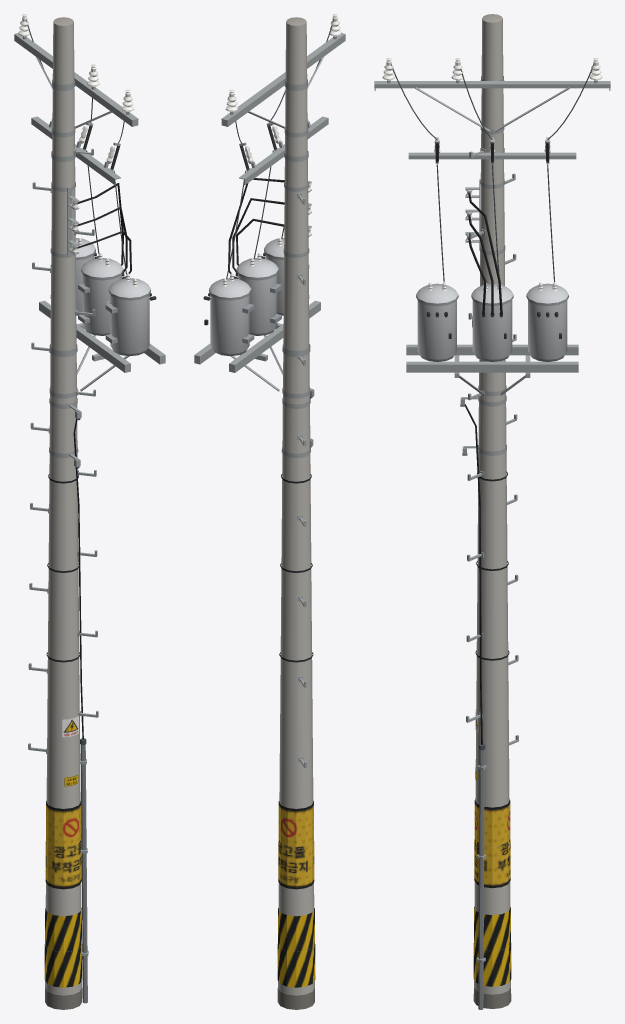
Rendered from SC_Util_Pole_Transformer.gltf.
The picture shows the model from 3 angles, left to right: view 1: azimuth 30°, elevation 25°; view 2: azimuth 150°, elevation 25°; view 3: azimuth 270°, elevation 25°; orthographic projection.
Parts seen in each view (by area): view 1: SC_Util_Pole_Transformer; view 2: SC_Util_Pole_Transformer; view 3: SC_Util_Pole_Transformer.
Part boxes in pixels (left/top/right/bottom): SC_Util_Pole_Transformer: left=14, top=14, right=165, bottom=1009; SC_Util_Pole_Transformer: left=194, top=14, right=345, bottom=1009; SC_Util_Pole_Transformer: left=374, top=14, right=610, bottom=1009.
Size of the model in its own units: 1.02 by 11.02 by 2.4.
Materials: 2 (2 with a texture image).
